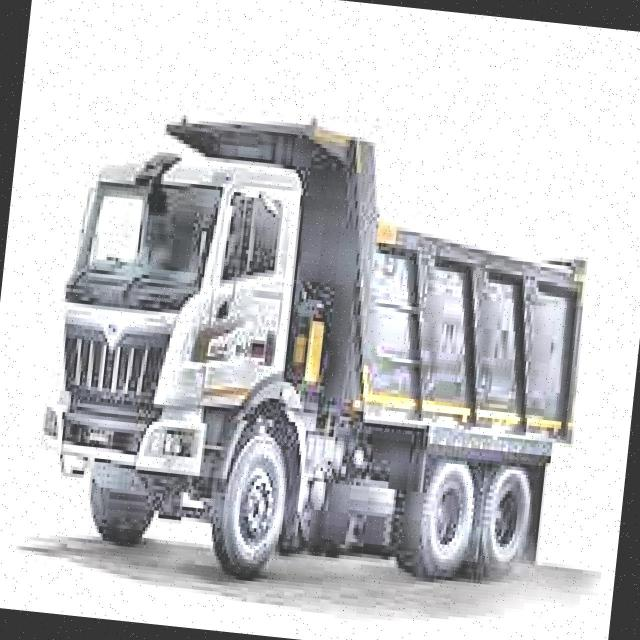dump_truck: (26, 89, 605, 609)
